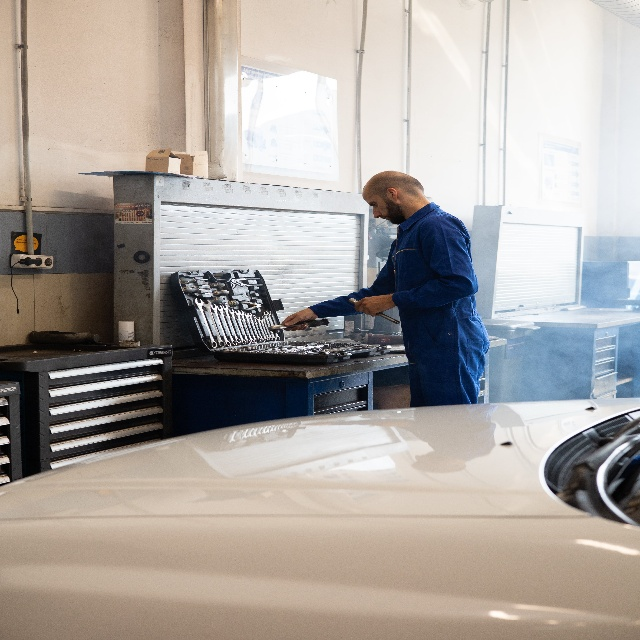Sin_guantes: (280, 307, 317, 331), (354, 294, 390, 317)
